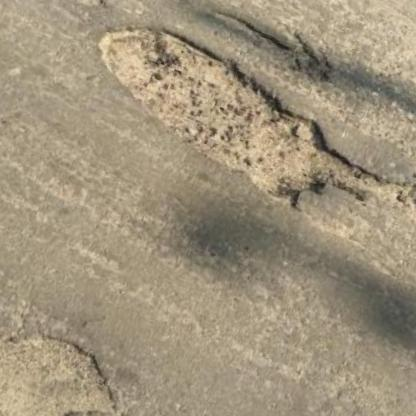pothole: (63, 3, 416, 259), (0, 310, 136, 416), (197, 0, 346, 89), (56, 0, 109, 12)
